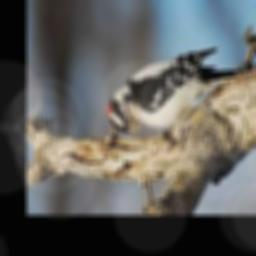Woodpecker: (108, 48, 245, 140)
